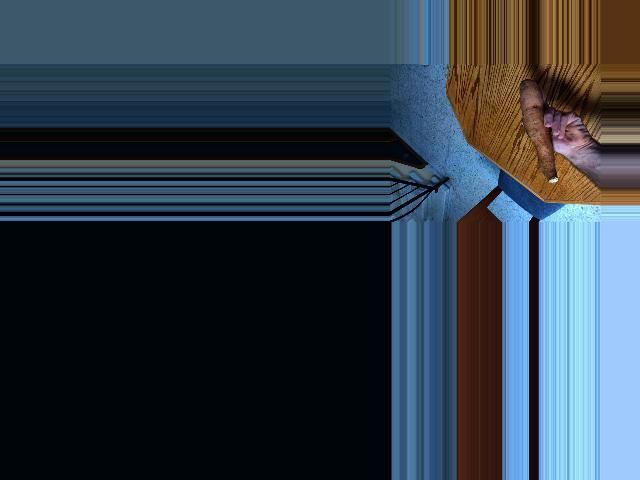sweet_potato: (516, 82, 562, 184)
